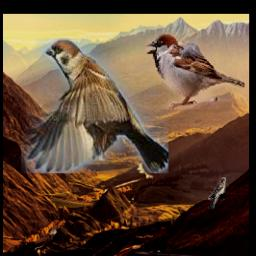Cuckoo: (209, 177, 227, 209)
Sparrow: (22, 39, 169, 174), (146, 32, 245, 110)
